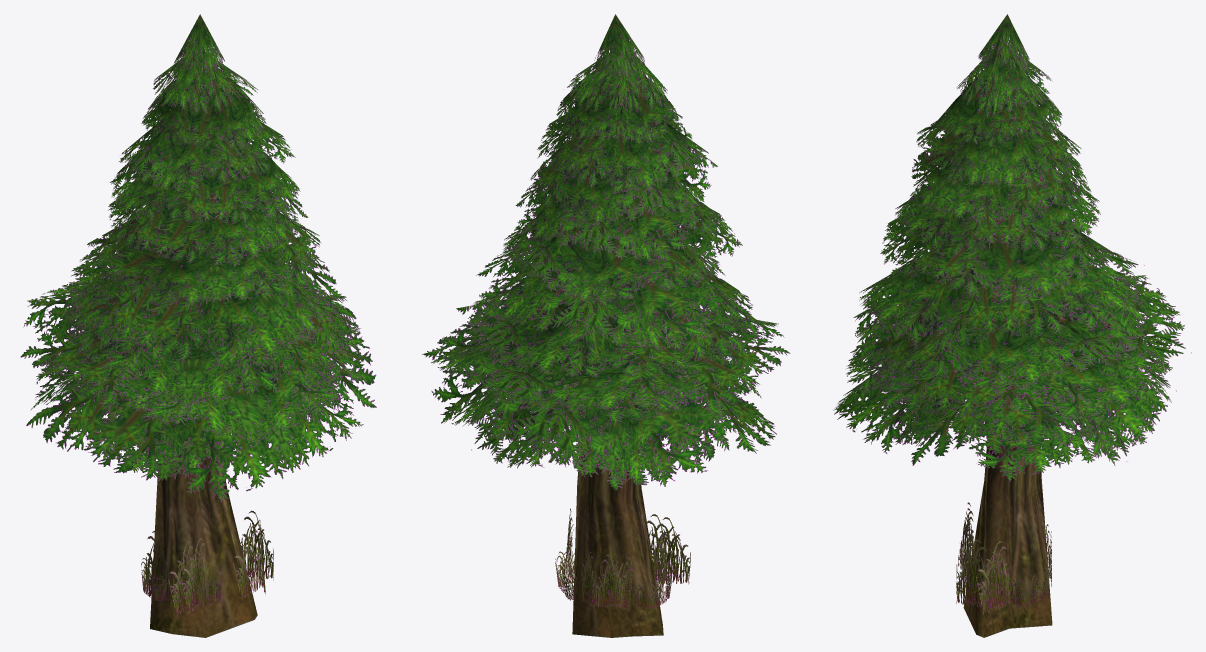
File: n_SEbtree02.glb
3 renders of one model, left to right at view 1: azimuth 30°, elevation 25°; view 2: azimuth 150°, elevation 25°; view 3: azimuth 270°, elevation 25°, orthographic.
Parts seen in each view (by area): view 1: n_SEbtree02; view 2: n_SEbtree02; view 3: n_SEbtree02.
Part boxes in pixels (<box>): n_SEbtree02: <box>20,14,376,637</box>; n_SEbtree02: <box>422,14,790,637</box>; n_SEbtree02: <box>833,14,1191,637</box>.
Bounding box in the file's own units: 4.99 × 8.58 × 4.72.
3 materials, 3 textured.
